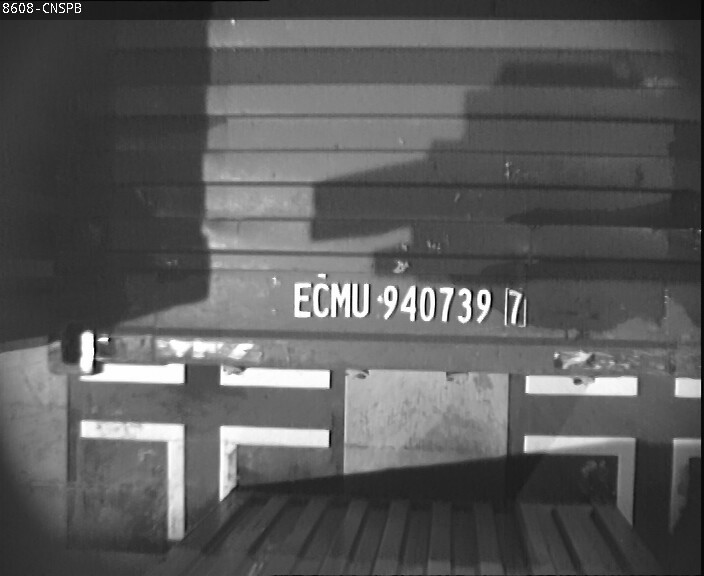groundmarker_1: (79, 416, 327, 542), (525, 438, 703, 552)
